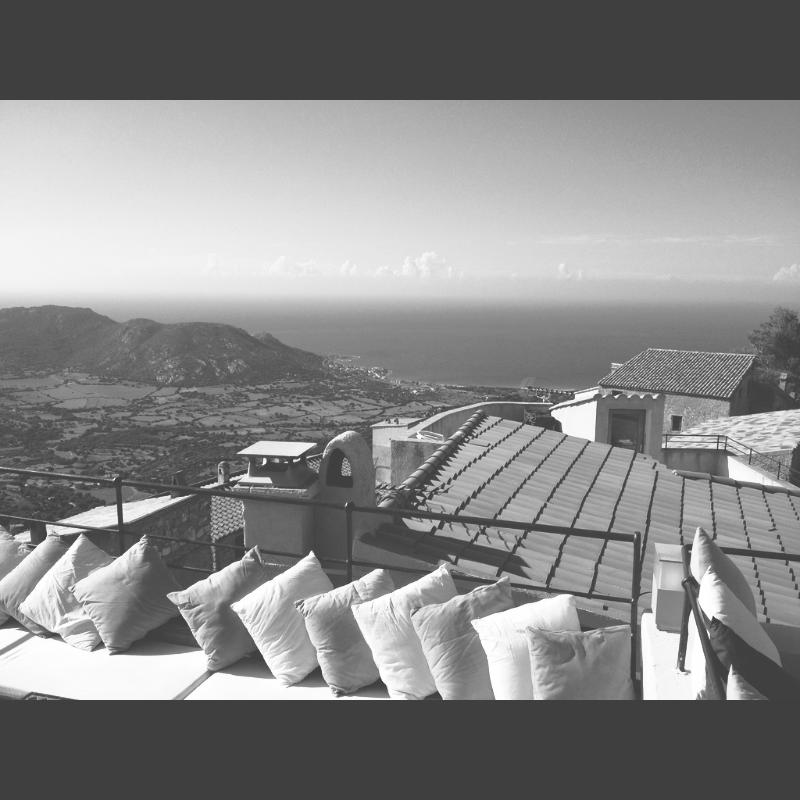pillow: (154, 551, 294, 673), (66, 528, 194, 656), (398, 576, 524, 700), (231, 549, 339, 689), (352, 559, 458, 699), (295, 564, 397, 690), (23, 528, 123, 654), (468, 591, 584, 699), (513, 619, 641, 699), (1, 530, 66, 644), (0, 527, 38, 579)
